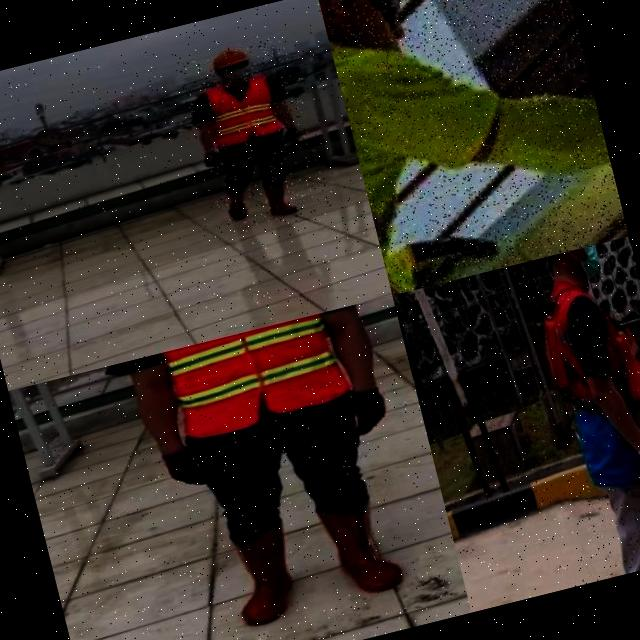boots: (314, 492, 406, 602), (219, 522, 308, 628), (260, 174, 302, 220), (218, 186, 250, 222)
helmet: (204, 41, 252, 72)
vest: (324, 0, 544, 295), (524, 256, 640, 502), (150, 310, 352, 448), (200, 70, 288, 150)
